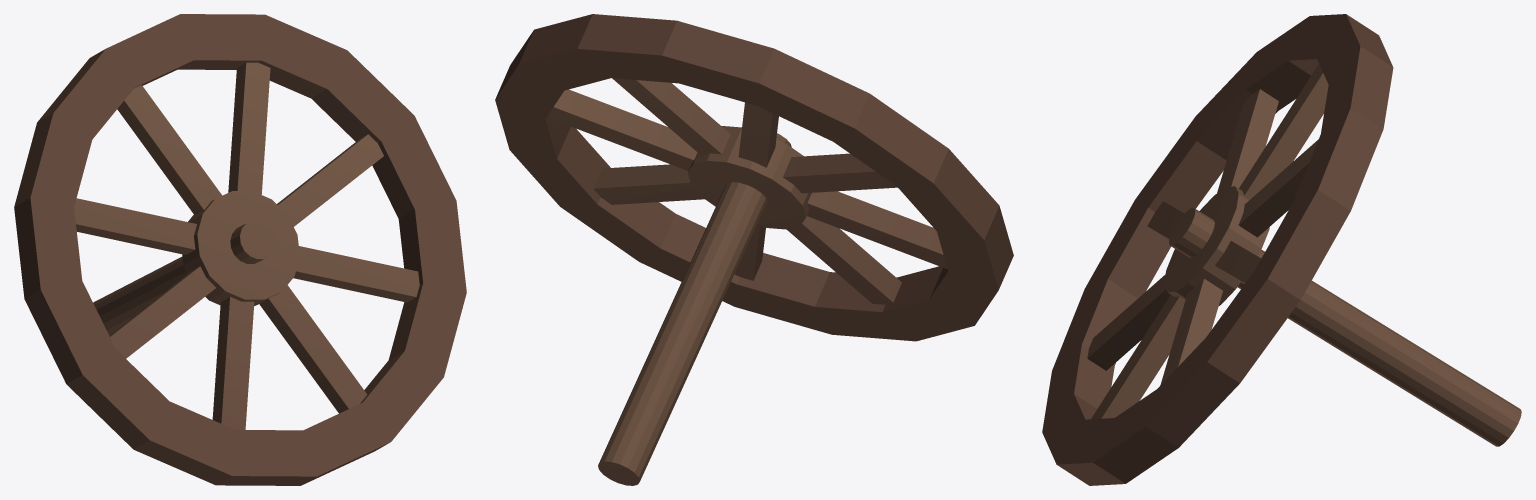
The model's file is Cart Wheel.glb.
3 views of the same model, side by side, from view 1: azimuth 30°, elevation 25°; view 2: azimuth 150°, elevation 25°; view 3: azimuth 270°, elevation 25° (orthographic). The views are drawn at different scales.
Parts seen in each view (by area): view 1: Cartwheel; view 2: Cartwheel; view 3: Cartwheel.
Part boxes in pixels (box(x1,y1,x2,y2)): Cartwheel: box(14, 14, 466, 485); Cartwheel: box(495, 14, 1013, 485); Cartwheel: box(1042, 14, 1521, 485).
Size of what is drawn, in the model's own units: 1.02 by 0.8665 by 0.9132.
1 material, 1 textured.
